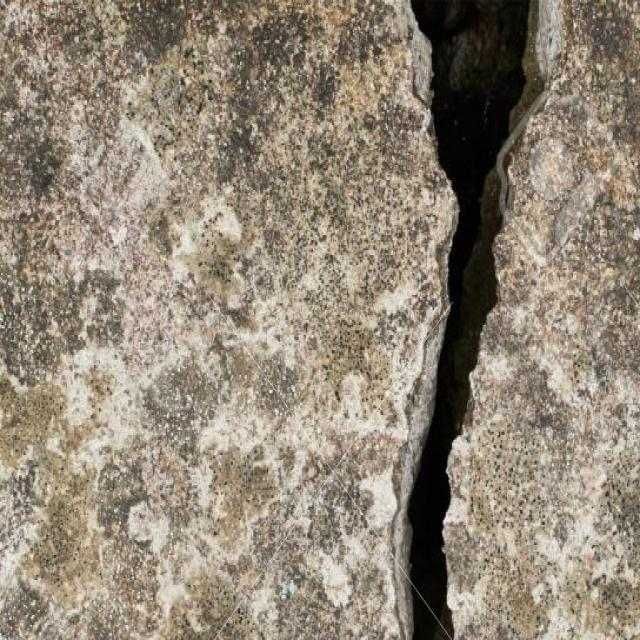Longitudinal: (393, 0, 562, 640)
